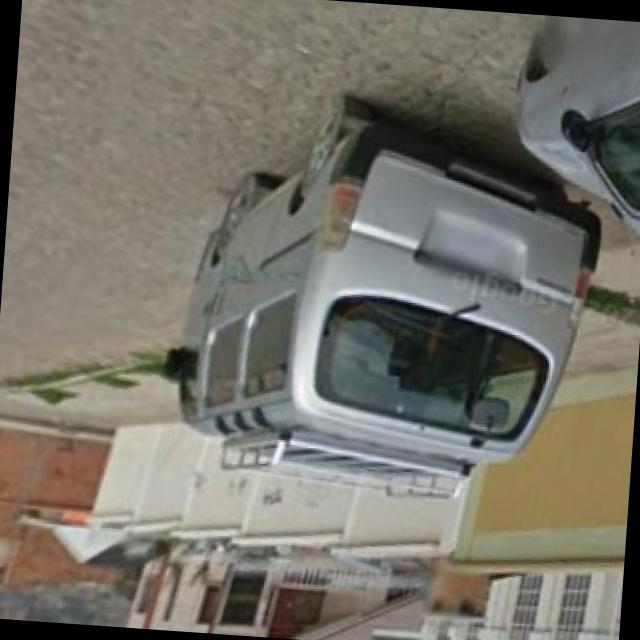car: (162, 105, 585, 488)
